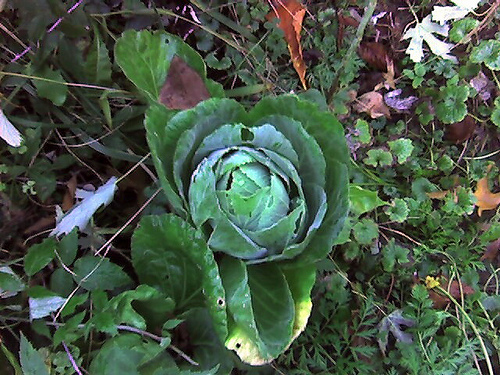cabbage: (111, 27, 351, 365)
